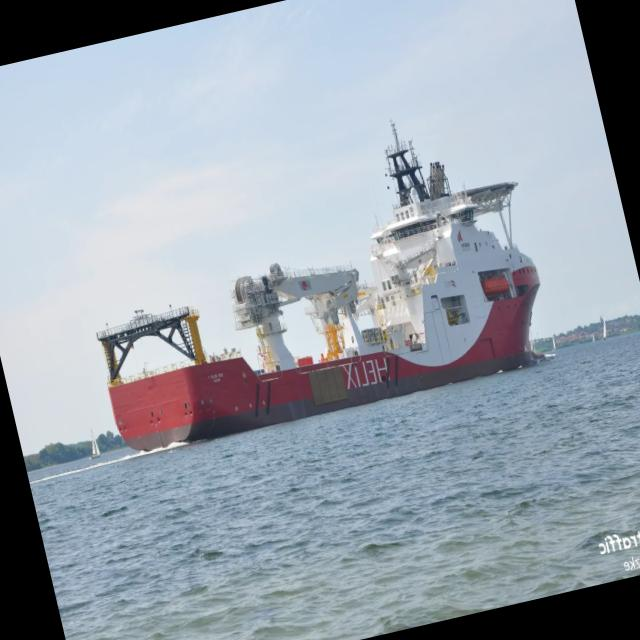Offshore: (98, 124, 540, 451)
